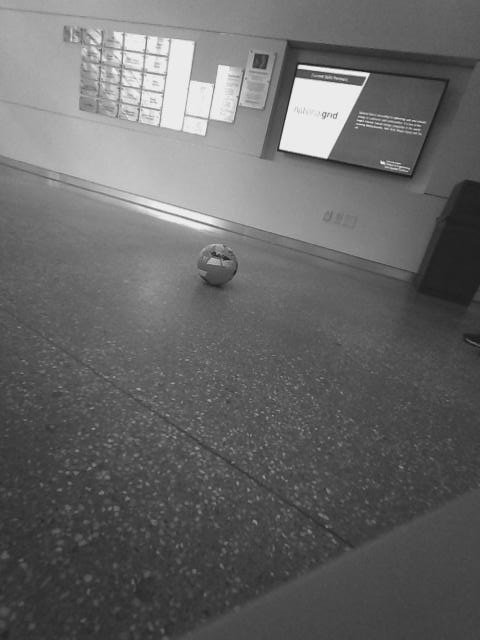ball: (195, 241, 240, 288)
